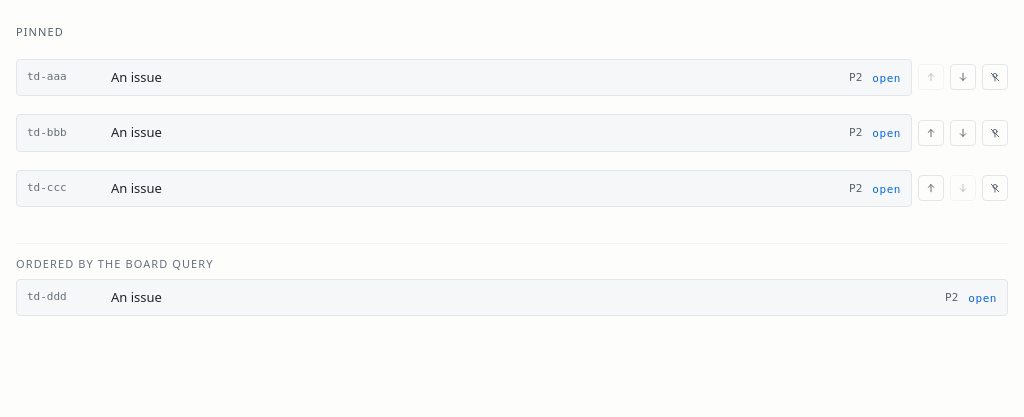
Test: BacklogView › shows td's message when the board changed under the move
The image size is (1024, 417).
Click the button named "Move td-ccc up". click: (931, 188)
box: [918,175,944,201]
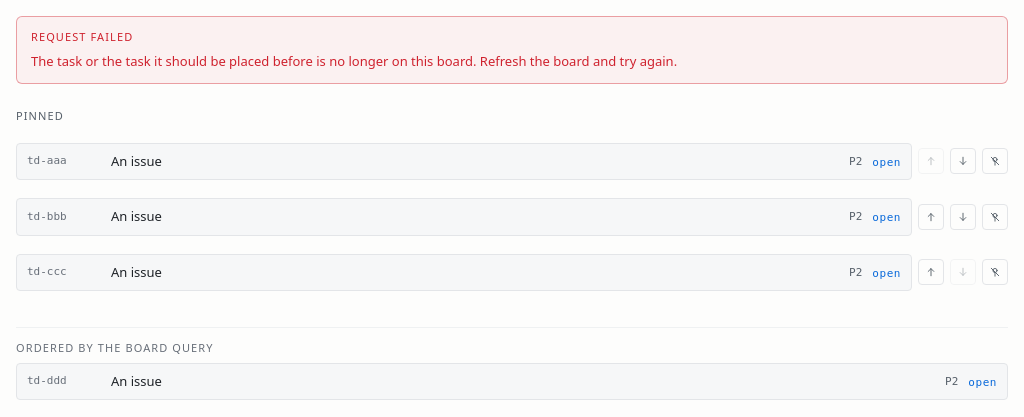
Check: the message shows "no longer on this board", box [31,52,677,70]
